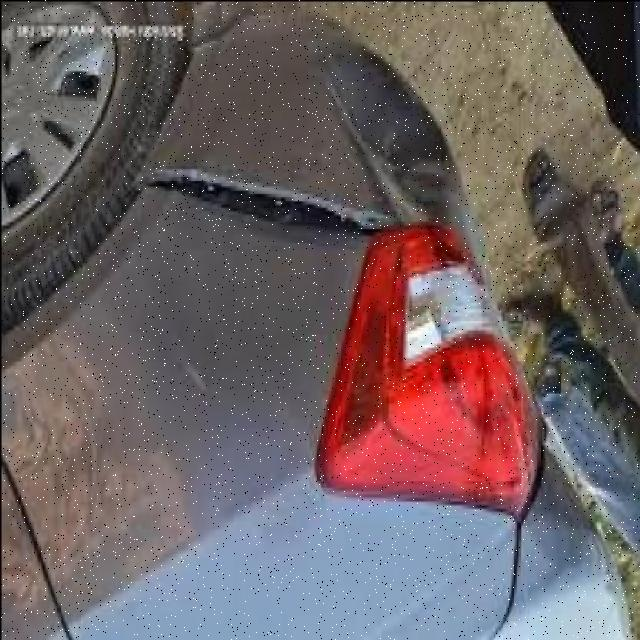damage: (131, 51, 451, 261)
